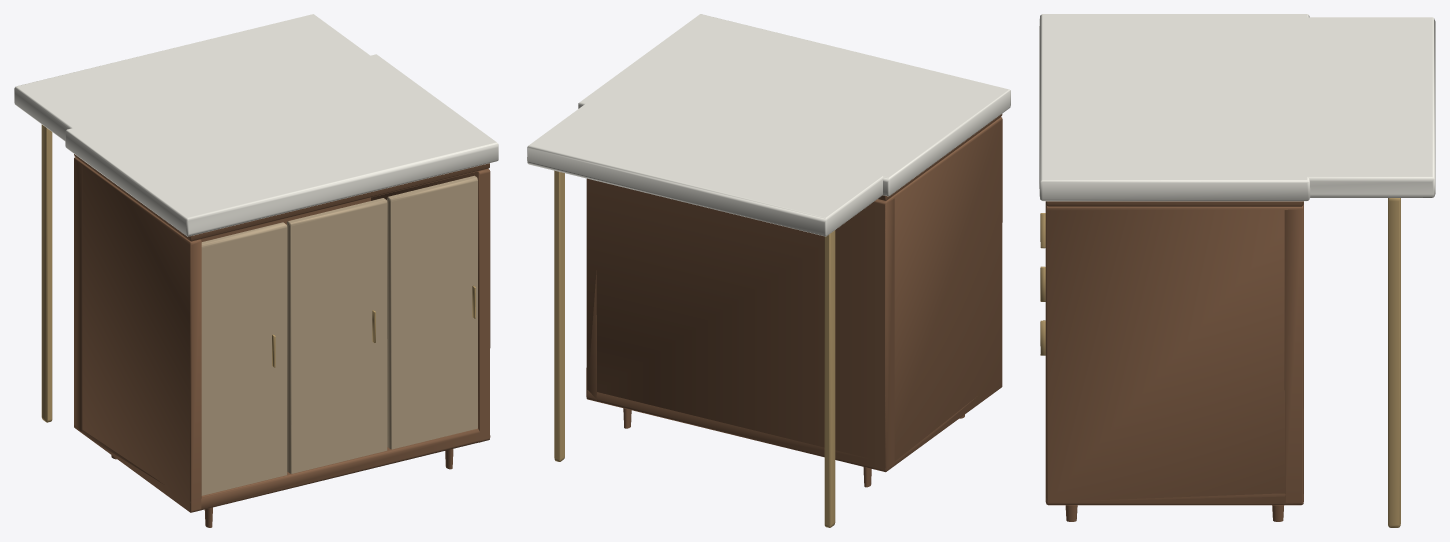
File: cabinet-19-2.lod.glb
3 renders of one model, left to right at view 1: azimuth 30°, elevation 25°; view 2: azimuth 150°, elevation 25°; view 3: azimuth 270°, elevation 25°, orthographic. The views are drawn at different scales.
Visible parts, largest first — view 1: upholstery (×2), worktop, part; view 2: part, worktop, upholstery; view 3: part, worktop, upholstery.
Part boxes in pixels (left/top/right/bottom): upholstery (×2): left=41, top=124, right=477, bottom=495; worktop: left=14, top=14, right=498, bottom=236; part: left=74, top=154, right=490, bottom=527; part: left=586, top=114, right=1002, bottom=487; worktop: left=527, top=14, right=1010, bottom=236; upholstery: left=554, top=170, right=835, bottom=527; part: left=1045, top=201, right=1303, bottom=521; worktop: left=1039, top=14, right=1435, bottom=201; upholstery: left=1040, top=198, right=1400, bottom=527.
Size of the model in its own units: 1 by 1 by 1.
